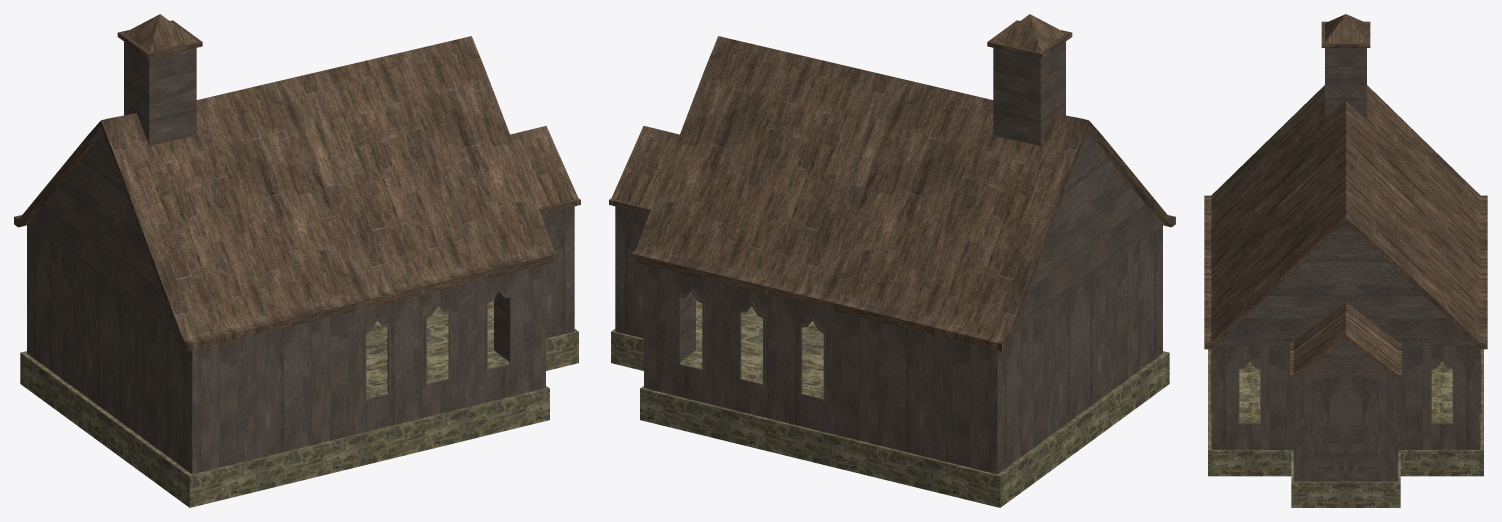
File: oldwest_07.obj
3 renders of one model, left to right at view 1: azimuth 30°, elevation 25°; view 2: azimuth 150°, elevation 25°; view 3: azimuth 270°, elevation 25°, orthographic. The views are drawn at different scales.
Visible parts, largest first — view 1: Cube.166, Cube.170, Cube.169, Cube.171; view 2: Cube.166, Cube.175, Cube.173, Cube.176; view 3: Cube.166, Cube.167, Cube.168, Cube.172, Cube.177.
Boxes of the visible parts, box(x1,y1,x2,y2) form: Cube.166: box(14, 14, 580, 507); Cube.170: box(424, 302, 451, 387); Cube.169: box(485, 287, 512, 372); Cube.171: box(364, 317, 390, 402); Cube.166: box(609, 14, 1175, 507); Cube.175: box(738, 302, 765, 387); Cube.173: box(677, 287, 704, 372); Cube.176: box(799, 317, 825, 402); Cube.166: box(1204, 14, 1487, 507); Cube.167: box(1346, 425, 1378, 481); Cube.168: box(1313, 425, 1345, 481); Cube.172: box(1237, 358, 1262, 425); Cube.177: box(1429, 358, 1454, 425).
Bounding box in the file's own units: 10.31 × 9.26 × 6.97.
Materials: 3 (3 with a texture image).
